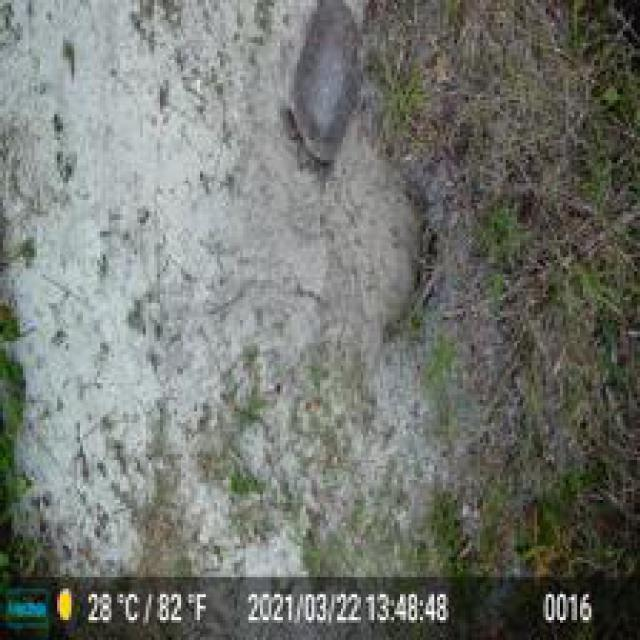tortoise: (277, 0, 363, 169)
